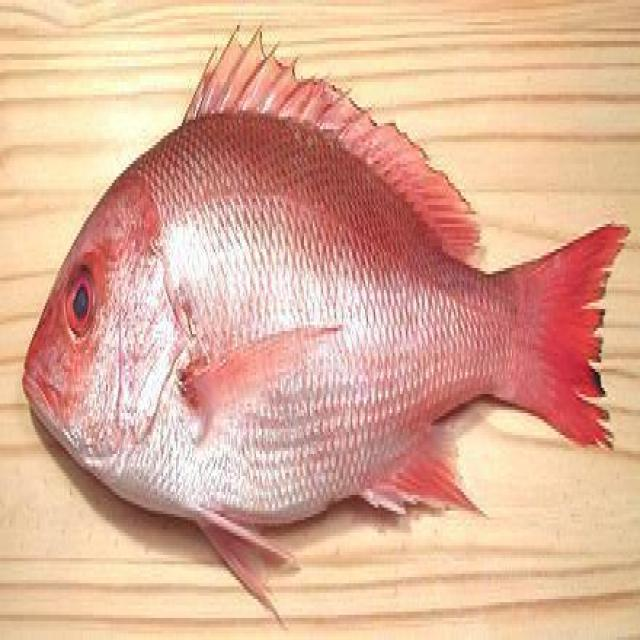northern-red-snapper: (14, 21, 634, 624)
